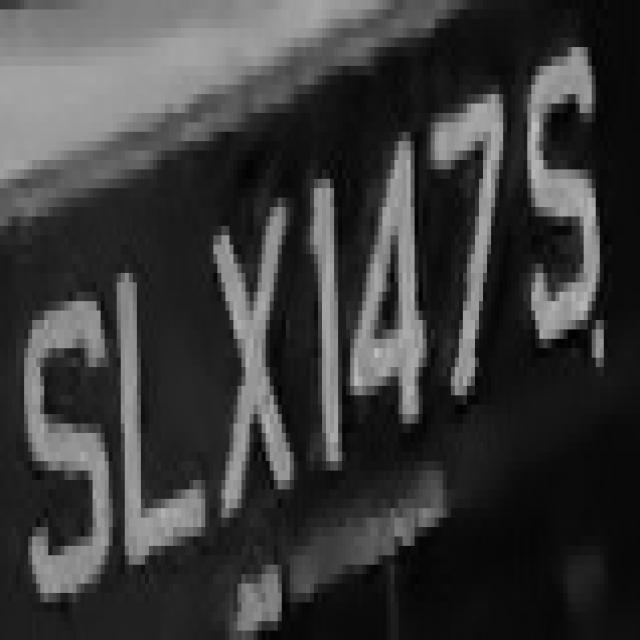1: (302, 170, 354, 508)
4: (342, 104, 435, 442)
7: (415, 56, 503, 424)
L: (101, 235, 213, 593)
S: (16, 301, 117, 621), (519, 29, 612, 376)
X: (201, 179, 298, 546)
